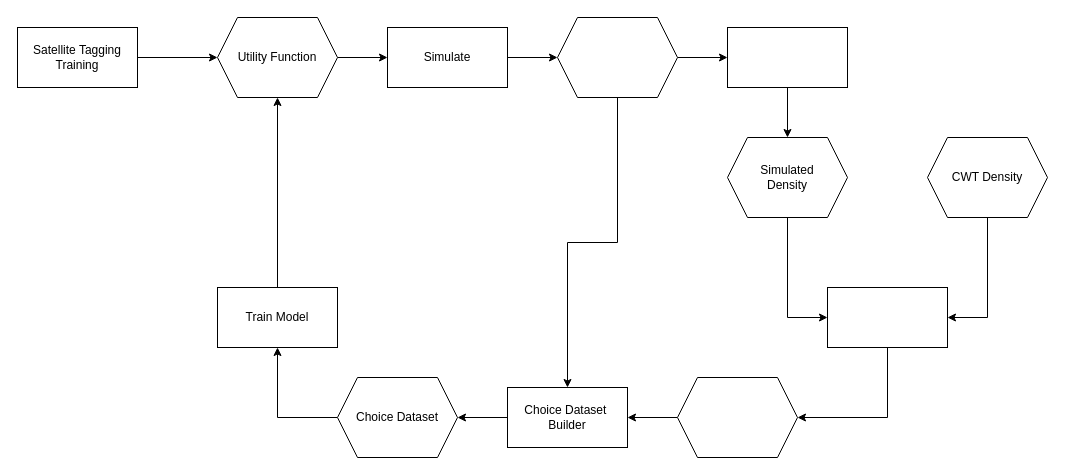
This 1065x475 diagram has some shape labels left out. Here are the shapes that lost their labels. From the top down, the centre of each, then its label:
At point (617, 57): "Simulated Decisions".
At point (787, 57): "Density Builder".
At point (887, 317): "Individual Ranker".
At point (737, 417): "Ranked Individuals".
